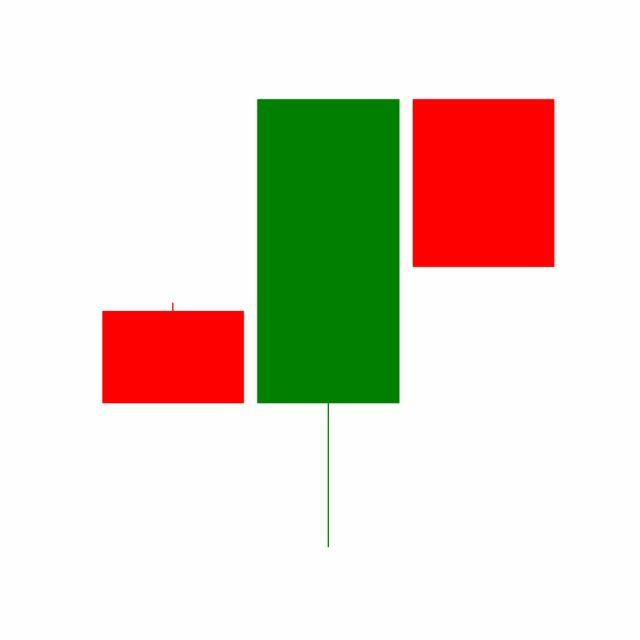Marubozu: (406, 98, 562, 269)
